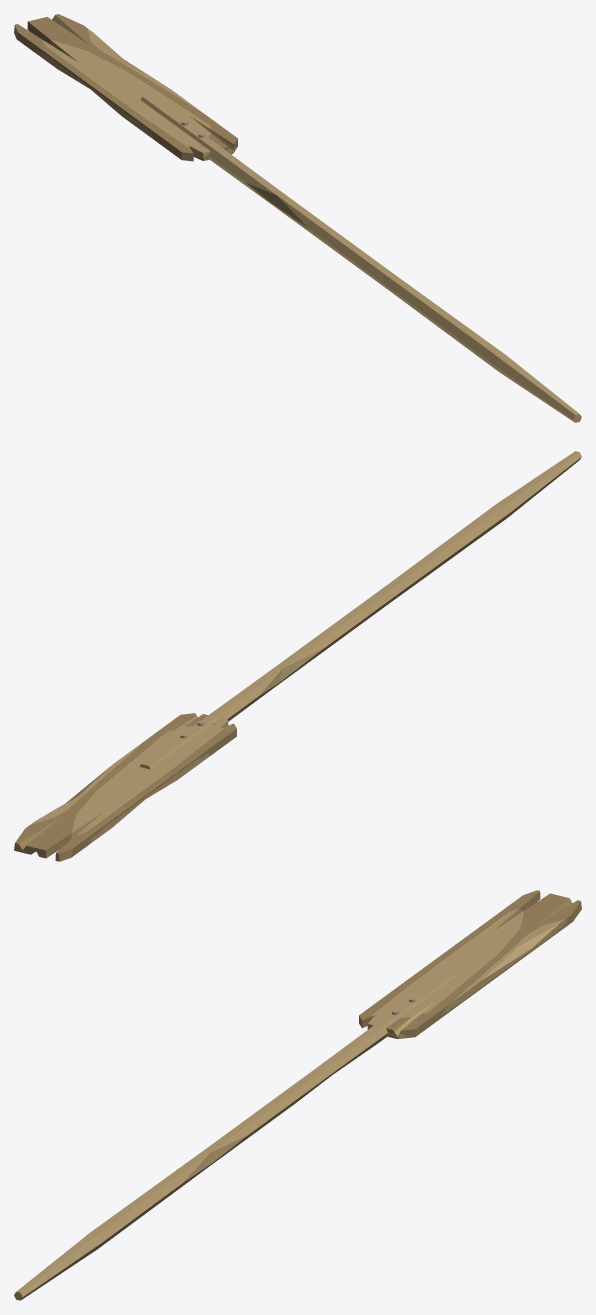
Rendered from SM_Prop_Raft_Oar_01.fbx.
3 views of the same model, one above another, from view 1: azimuth 30°, elevation 25°; view 2: azimuth 150°, elevation 25°; view 3: azimuth 330°, elevation 25° (orthographic).
Parts seen in each view (by area): view 1: SM_Prop_Raft_Oar_01; view 2: SM_Prop_Raft_Oar_01; view 3: SM_Prop_Raft_Oar_01.
Boxes of the visible parts, left/top/right/bottom form: SM_Prop_Raft_Oar_01: left=14, top=14, right=581, bottom=422; SM_Prop_Raft_Oar_01: left=14, top=451, right=581, bottom=861; SM_Prop_Raft_Oar_01: left=14, top=890, right=581, bottom=1300.
Bounding box in the file's own units: 28.67 × 9.21 × 477.
1 material, 1 textured.
